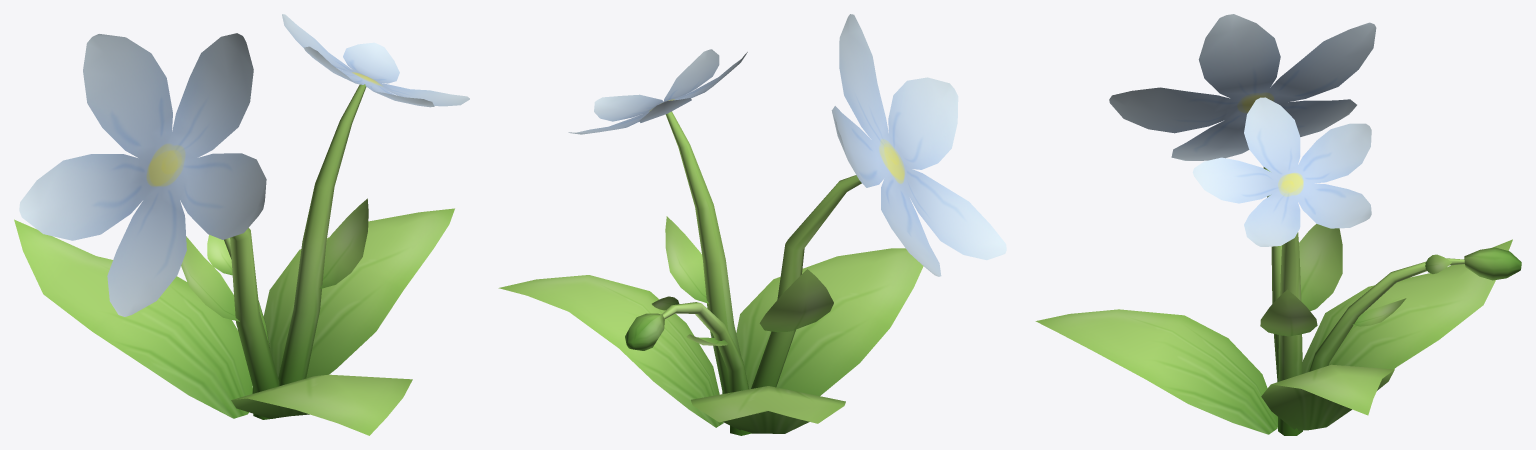
The model's file is flower3.glb.
3 renders of one model, left to right at view 1: azimuth 30°, elevation 25°; view 2: azimuth 150°, elevation 25°; view 3: azimuth 270°, elevation 25°, orthographic. The views are drawn at different scales.
Parts seen in each view (by area): view 1: Cylinder.002; view 2: Cylinder.002; view 3: Cylinder.002.
Part boxes in pixels (x1,y1,x2,y2): Cylinder.002: [14, 14, 469, 435]; Cylinder.002: [498, 14, 1006, 435]; Cylinder.002: [1035, 14, 1521, 435].
Size of the model in its own units: 0.9346 by 0.8397 by 0.9716.
Materials: 1 (1 with a texture image).
